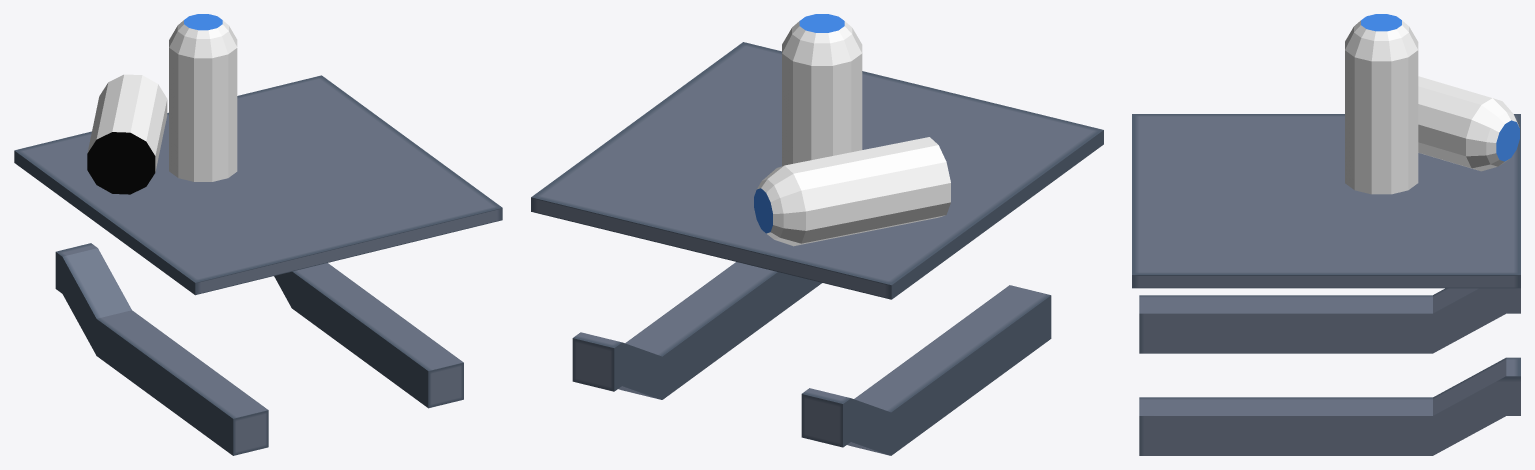
Rendered from WallSpaceSuitLocker Empty.obj.
3 renders of one model, left to right at view 1: azimuth 30°, elevation 25°; view 2: azimuth 150°, elevation 25°; view 3: azimuth 270°, elevation 25°, orthographic. The views are drawn at different scales.
Visible parts, largest first — view 1: cuboid, cylinder; view 2: cuboid, cylinder; view 3: cuboid, cylinder.
Part boxes in pixels (x1,y1,x2,y2): cuboid: (14, 75, 502, 455); cylinder: (87, 14, 237, 194); cuboid: (531, 42, 1103, 455); cylinder: (754, 14, 950, 246); cuboid: (1132, 114, 1520, 455); cylinder: (1345, 14, 1519, 194).
Size of the model in its own units: 0.325 by 0.3344 by 0.3312.
Materials: 2 (2 with a texture image).
